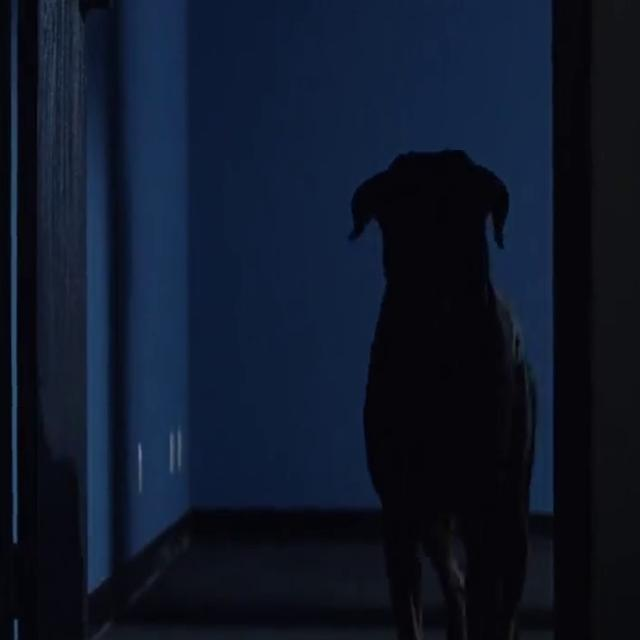Dog: (309, 99, 587, 608)
